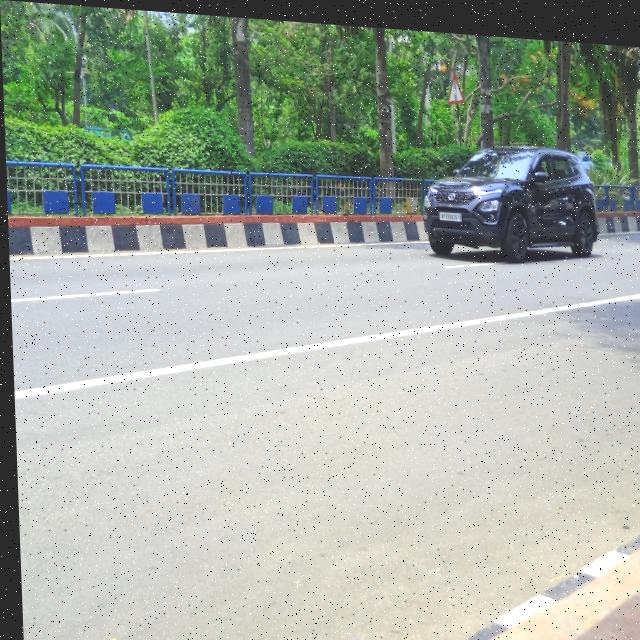car: (404, 125, 607, 259)
